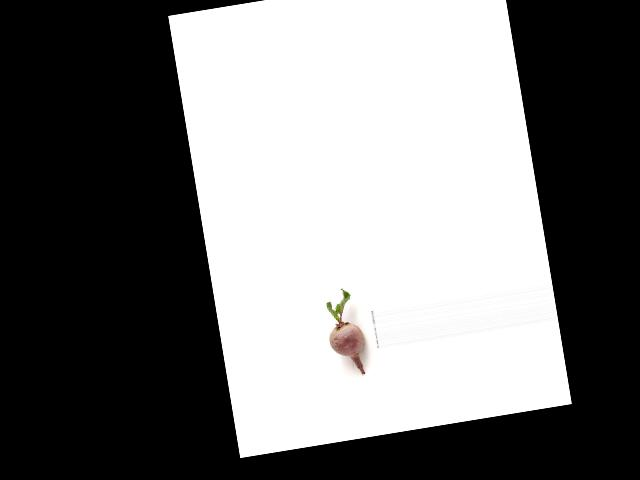beet: (321, 285, 369, 377)
